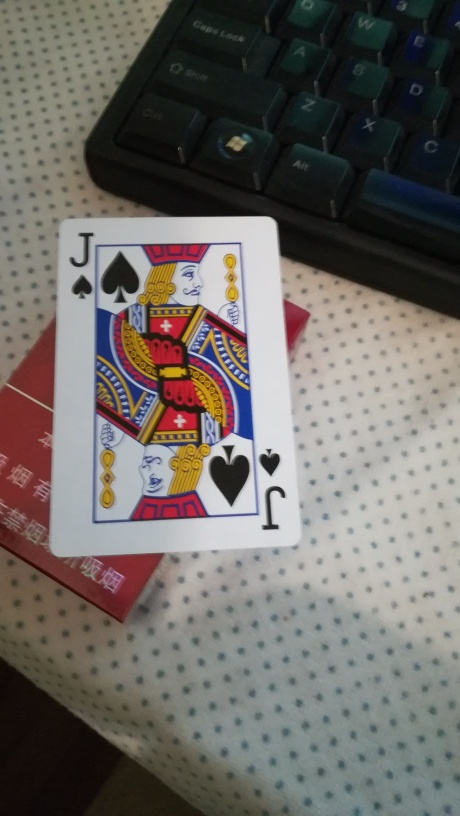ht j: (44, 202, 302, 560)
